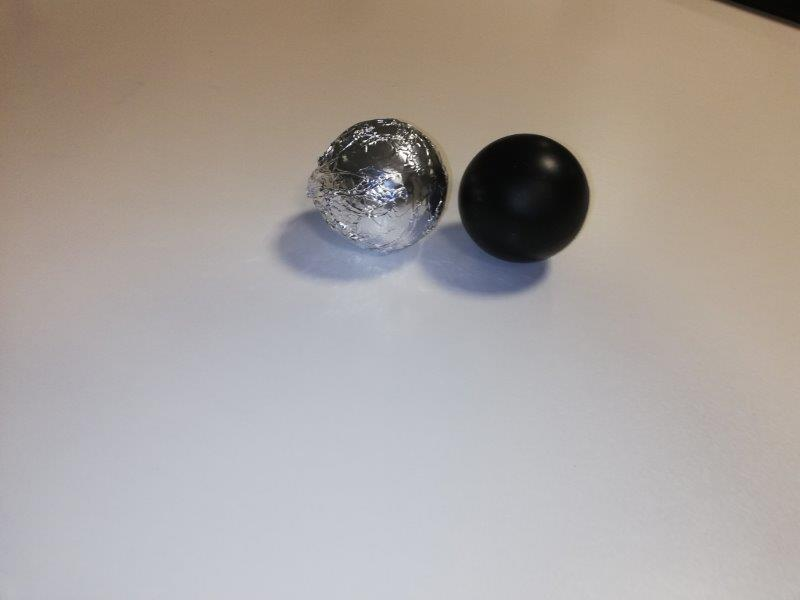bianca: (309, 115, 448, 250)
nera: (459, 132, 596, 262)
